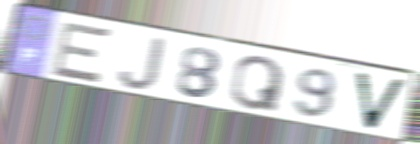8: (176, 46, 223, 100)
9: (289, 67, 343, 120)
E: (48, 19, 115, 86)
J: (114, 35, 168, 92)
Q: (228, 55, 287, 115)
V: (351, 69, 411, 134)
